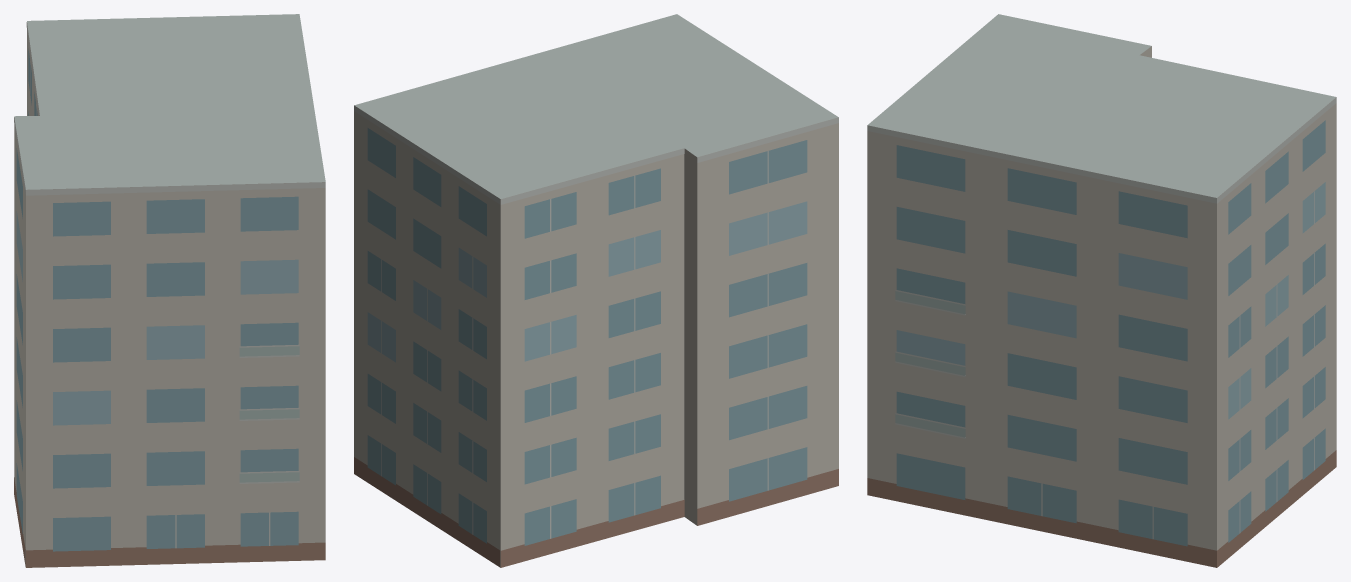
The model's file is survey-upis-32888379.glb.
The picture shows the model from 3 angles, left to right: view 1: azimuth 30°, elevation 25°; view 2: azimuth 150°, elevation 25°; view 3: azimuth 270°, elevation 25°; orthographic projection. The views are drawn at different scales.
Parts seen in each view (by area): view 1: survey-upis-32888379.tmp; view 2: survey-upis-32888379.tmp; view 3: survey-upis-32888379.tmp.
Part boxes in pixels (box(x1,y1,x2,y2)): survey-upis-32888379.tmp: box(14, 14, 325, 567); survey-upis-32888379.tmp: box(354, 14, 838, 567); survey-upis-32888379.tmp: box(867, 14, 1336, 567).
Bounding box in the file's own units: 16.76 × 15.7 × 18.06.
